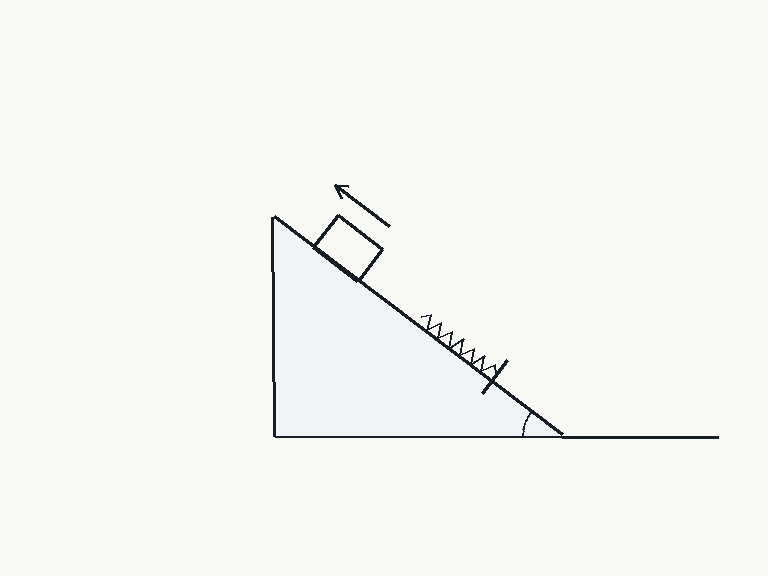block: (311, 213, 384, 283)
ramp: (271, 216, 565, 438)
spring: (419, 314, 498, 376)
